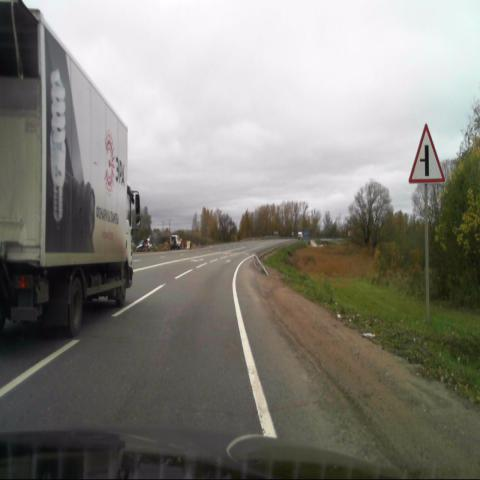2_3_3: (406, 124, 446, 186)
